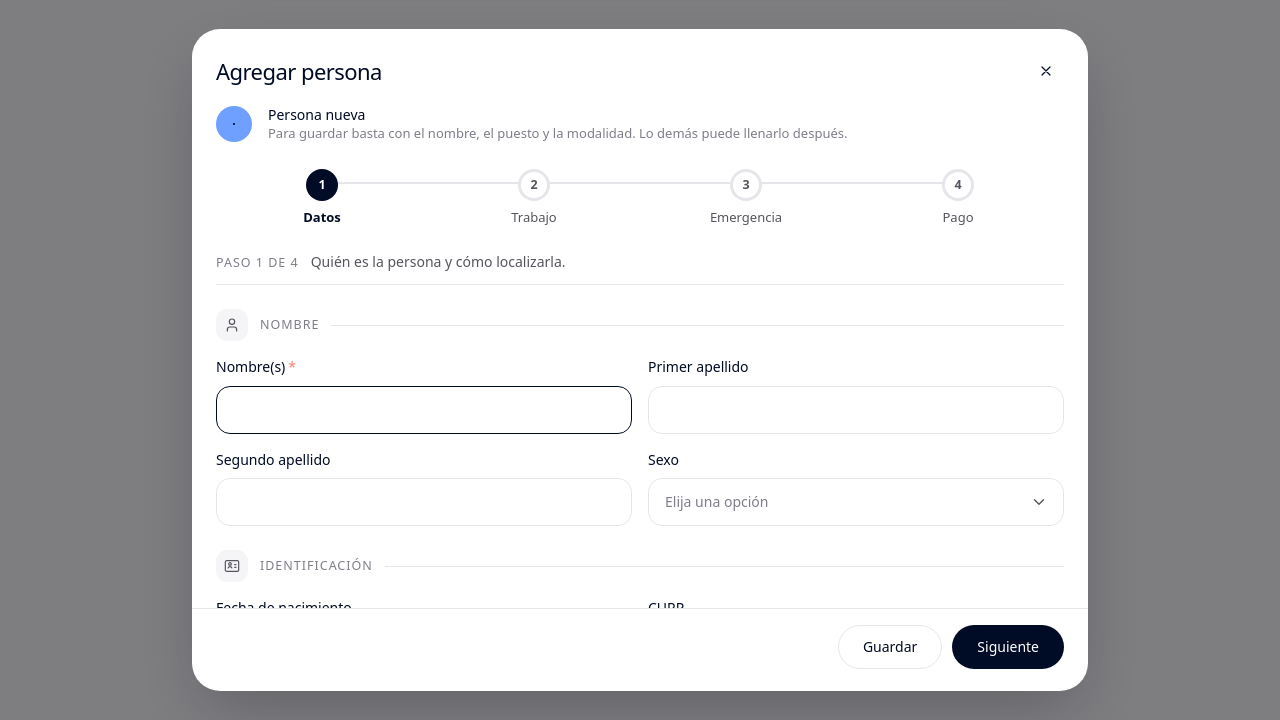
Test: the record of a person in steps › saves with the minimum and takes the person to the step of a blocking problem
Step 1. Type "Ana" into the field labelled "Nombre(s)*" → x=424, y=410, box [216,386,632,434]
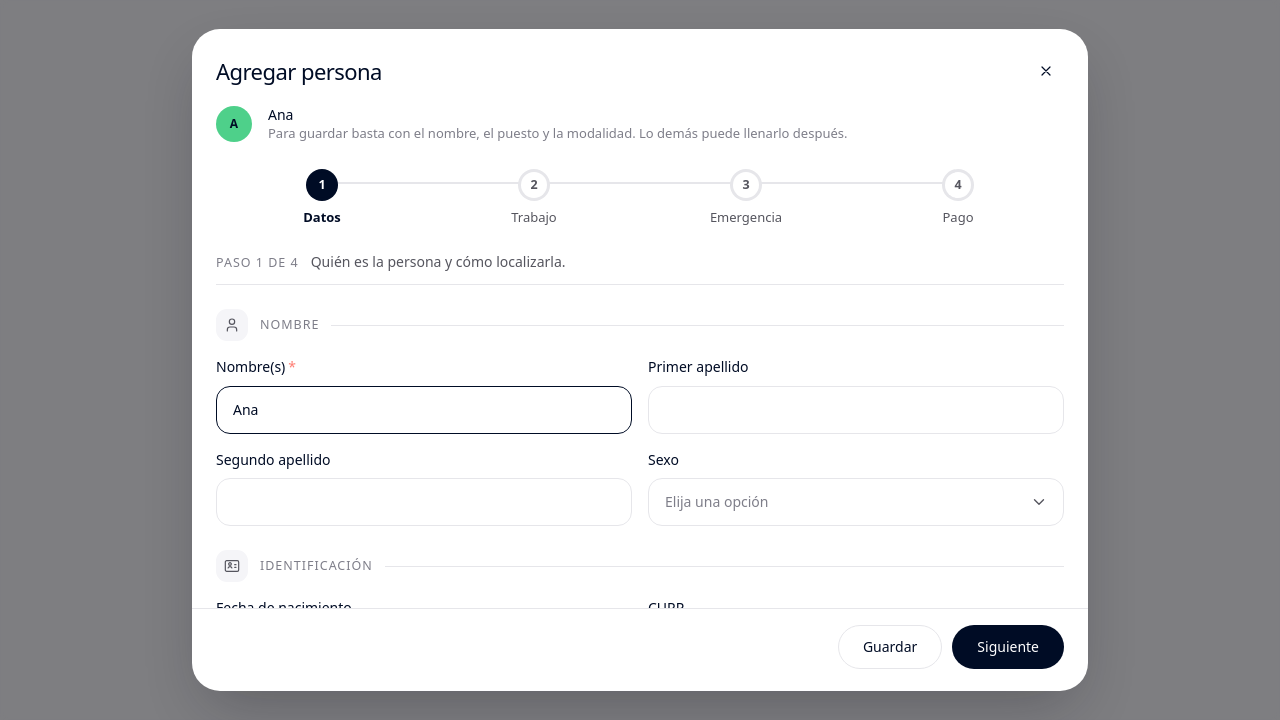
Step 2. Click the button "Guardar" → x=890, y=647, box [838,625,942,669]
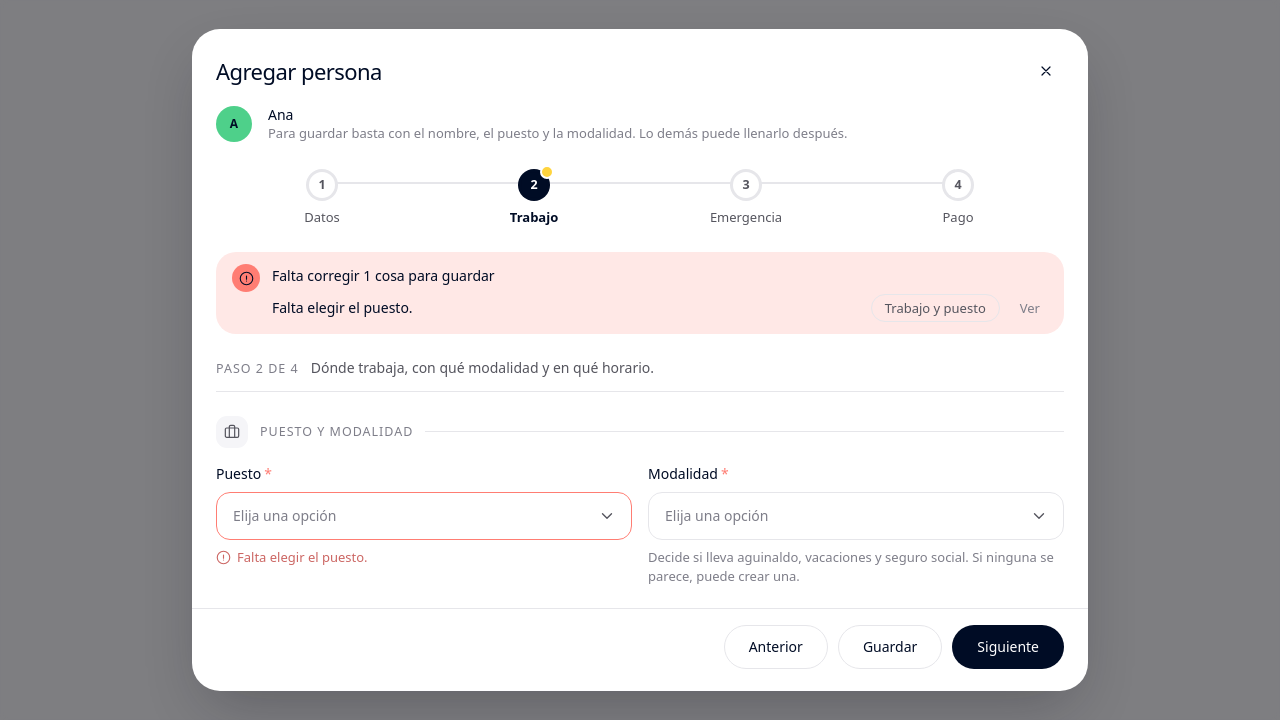
Expected: the dropdown labelled "Modalidad" is shown, [648,492,1064,540]
Expected: the text "Ana" is shown, [268,105,294,124]
Expected: the text "Falta elegir el puesto." is shown, [272,298,413,317]
